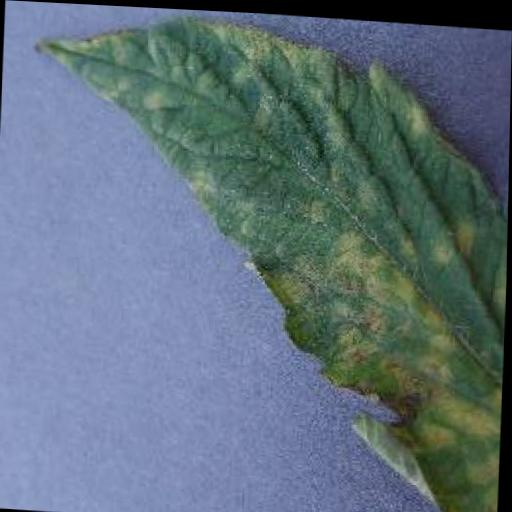Leaf Mold: (12, 8, 512, 512)
